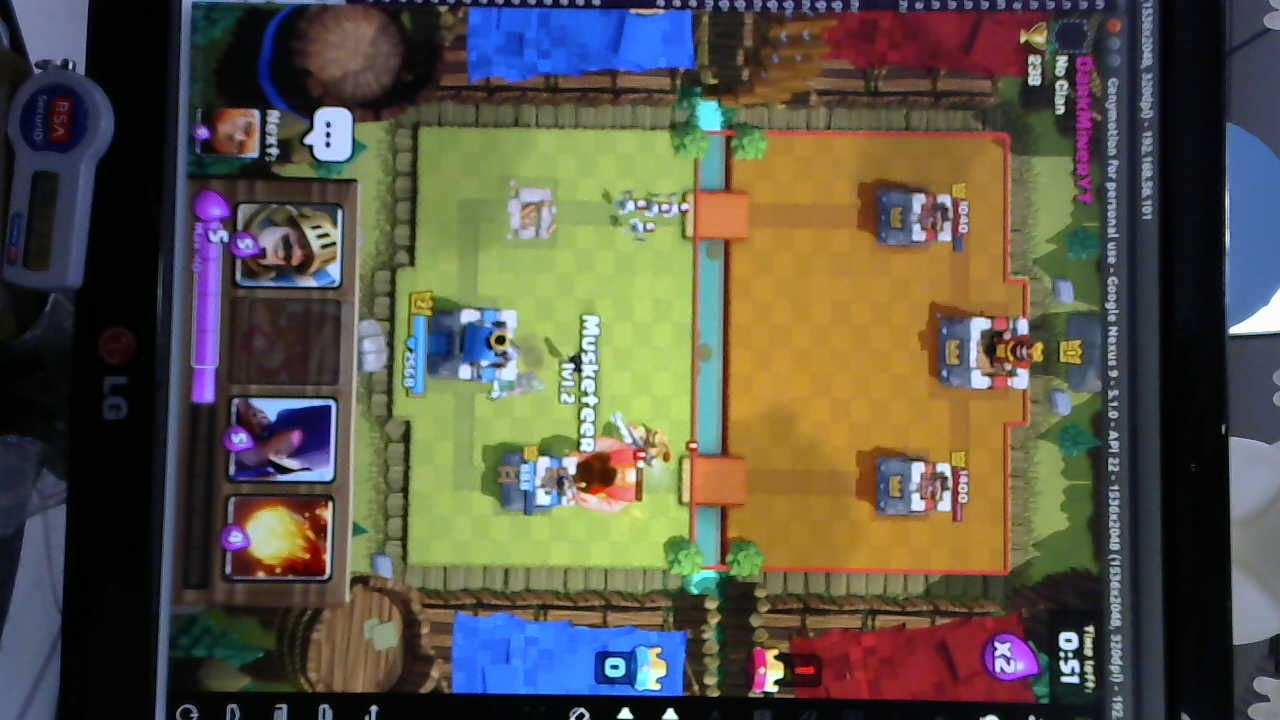arena: (500, 448, 578, 517)
darena: (501, 179, 558, 245)
earena: (871, 451, 957, 514), (883, 186, 953, 248)
eking: (939, 317, 1038, 395)
giant: (565, 434, 646, 514)
king: (431, 302, 521, 387)
prince: (616, 406, 675, 469)
skeleton: (617, 193, 698, 239)
